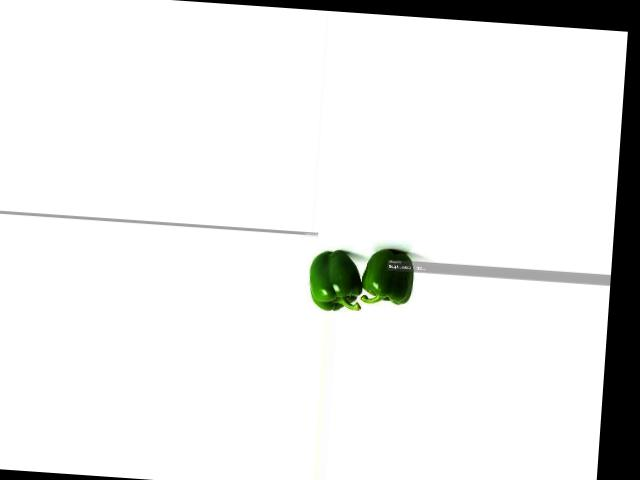bell_pepper: (307, 240, 364, 316)
